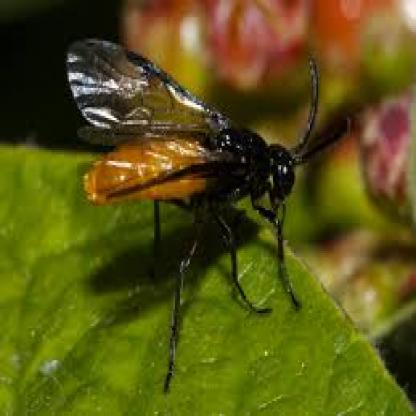sawfly: (65, 31, 353, 390)
